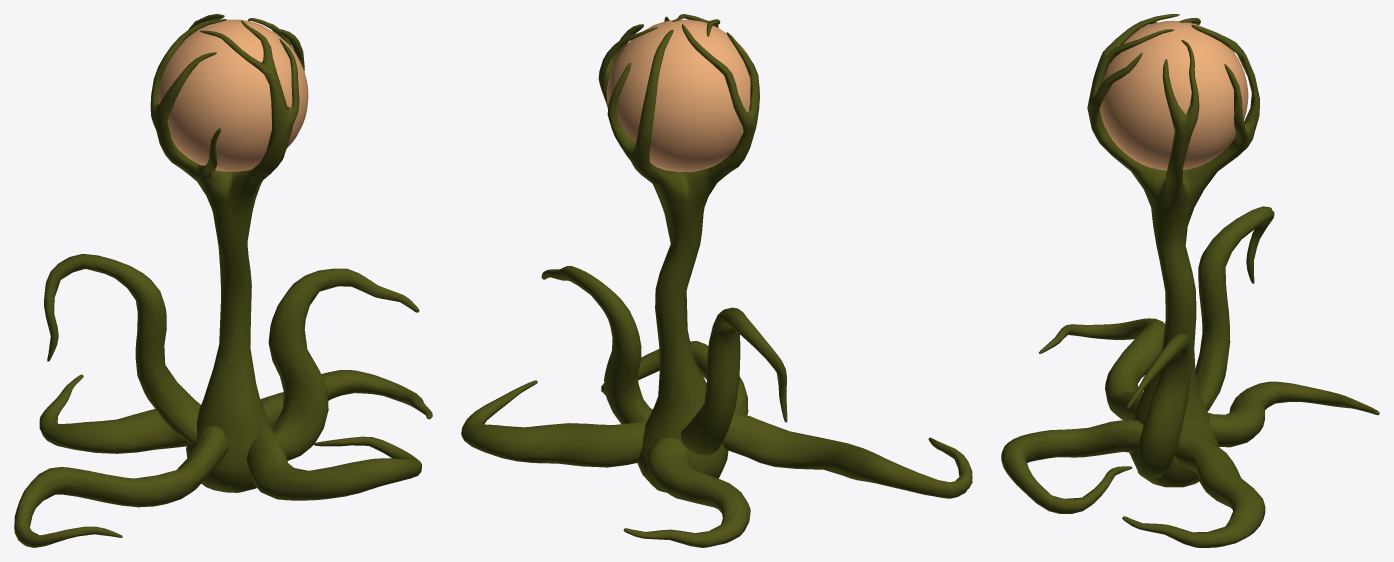
File: Dev_SM_Env_GlowingOrb.fbx
3 renders of one model, left to right at view 1: azimuth 30°, elevation 25°; view 2: azimuth 150°, elevation 25°; view 3: azimuth 270°, elevation 25°, orthographic.
Parts seen in each view (by area): view 1: SM_Env_GlowingOrb; view 2: SM_Env_GlowingOrb; view 3: SM_Env_GlowingOrb.
Boxes of the visible parts, x1,y1,x2,y2 form: SM_Env_GlowingOrb: (14,14,432,547); SM_Env_GlowingOrb: (461,14,972,547); SM_Env_GlowingOrb: (1001,14,1379,547).
Bounding box in the file's own units: 255 × 252 × 191.
